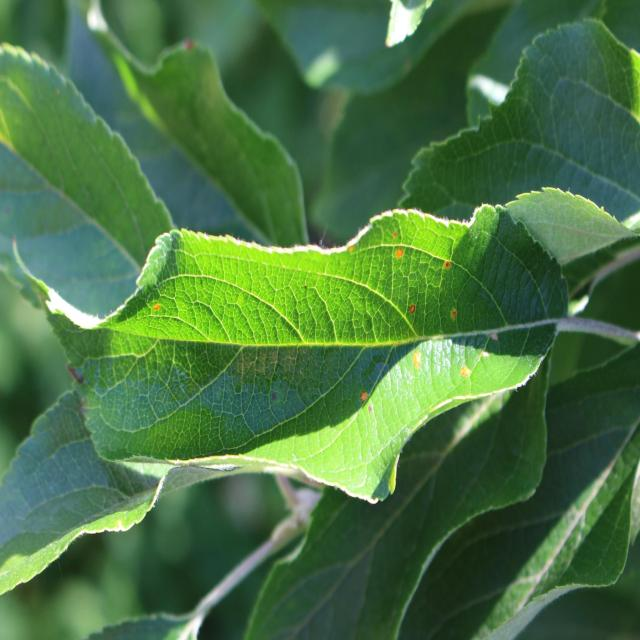Rust: (410, 344, 423, 385), (440, 246, 454, 279), (343, 238, 362, 260), (460, 360, 474, 389), (390, 244, 407, 265), (447, 304, 463, 325), (405, 300, 419, 319), (388, 225, 401, 244), (150, 297, 162, 315), (360, 385, 370, 406)
